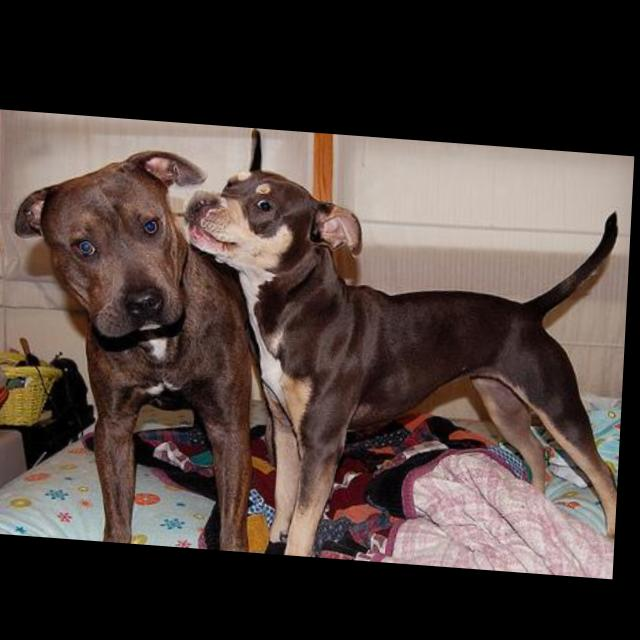amstaff: (177, 160, 635, 569), (6, 139, 290, 550)
